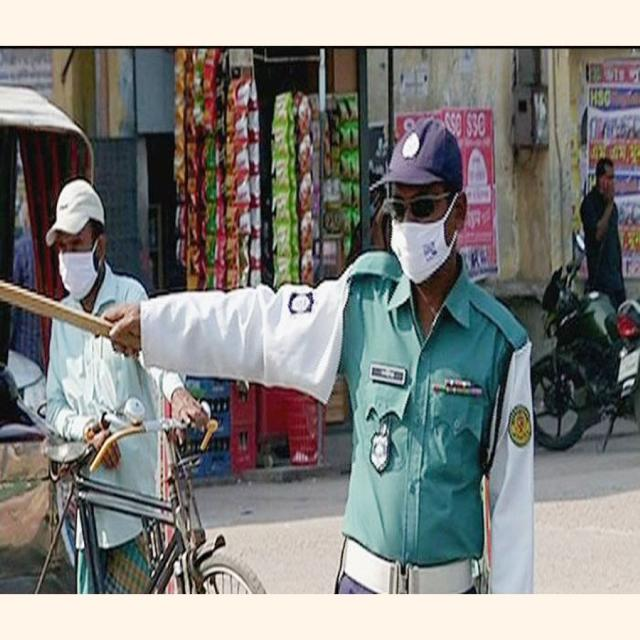Motorbike: (532, 235, 640, 457)
traffic-police: (141, 111, 551, 640)
